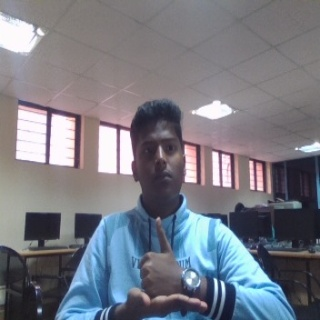Face: (127, 97, 187, 205)
Help: (120, 214, 211, 318)
